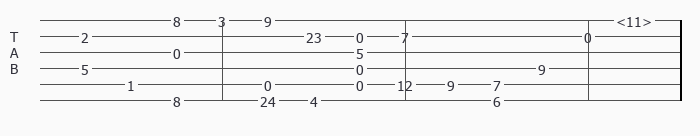0: (173, 45, 185, 59), (264, 77, 276, 91), (356, 61, 368, 75), (356, 29, 368, 43), (356, 77, 368, 91), (584, 29, 596, 43)
1: (127, 77, 139, 91)
12: (397, 77, 417, 91)
2: (81, 29, 93, 43)
23: (306, 29, 326, 43)
24: (260, 93, 280, 107)
3: (218, 13, 230, 27)
4: (310, 93, 322, 107)
5: (81, 61, 93, 75), (356, 45, 368, 59)
6: (493, 93, 505, 107)
7: (401, 29, 413, 43), (493, 77, 505, 91)
8: (173, 13, 185, 27), (173, 93, 185, 107)
9: (264, 13, 276, 27), (447, 77, 459, 91), (538, 61, 550, 75)
harmonic: (616, 13, 656, 27)
